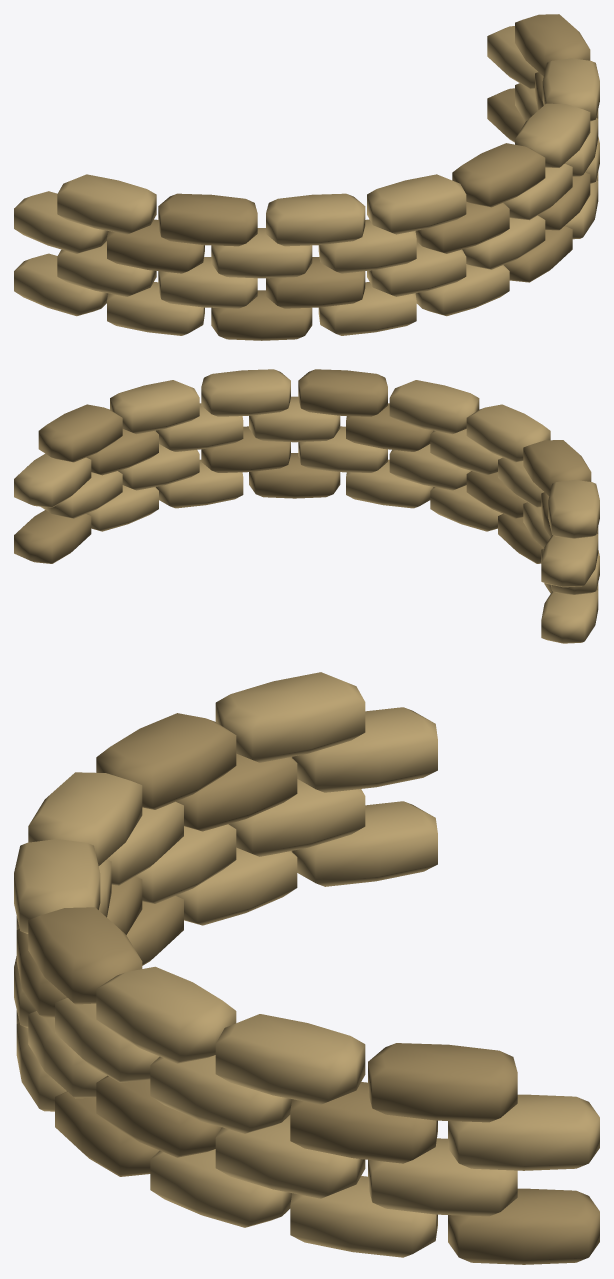
The model's file is sandbag_nest.glb.
The picture shows the model from 3 angles, top to bottom: view 1: azimuth 30°, elevation 25°; view 2: azimuth 150°, elevation 25°; view 3: azimuth 270°, elevation 25°; orthographic projection. The views are drawn at different scales.
Visible parts, largest first — view 1: sandbag_nest; view 2: sandbag_nest; view 3: sandbag_nest.
Boxes of the visible parts, box(x1,y1,x2,y2) form: sandbag_nest: box(14, 14, 599, 340); sandbag_nest: box(14, 369, 599, 643); sandbag_nest: box(14, 672, 599, 1264).
Bounding box in the file's own units: 3.88 × 0.82 × 2.26.
